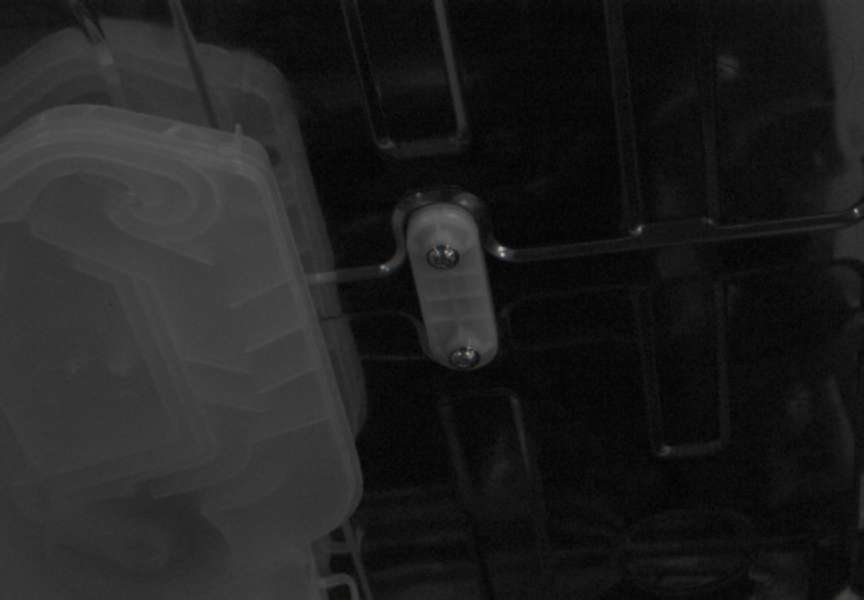screw: (426, 244, 460, 270), (449, 347, 481, 370)
